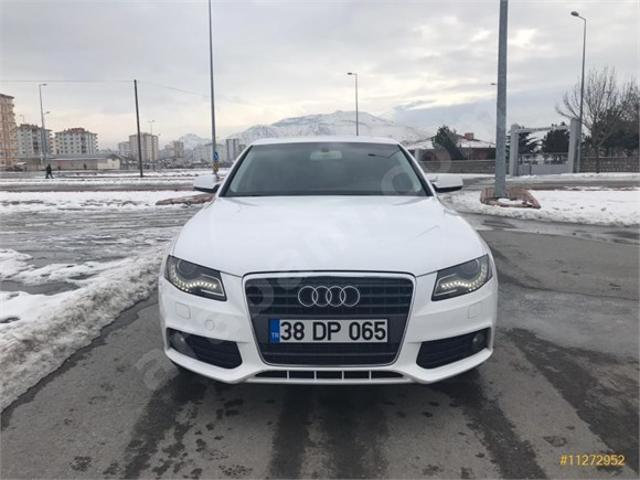audi: (292, 285, 363, 311)
